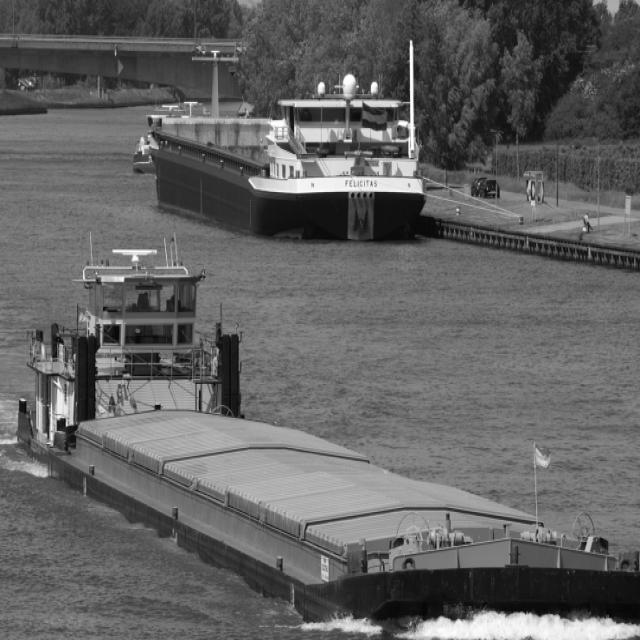tugboat: (16, 243, 254, 494)
